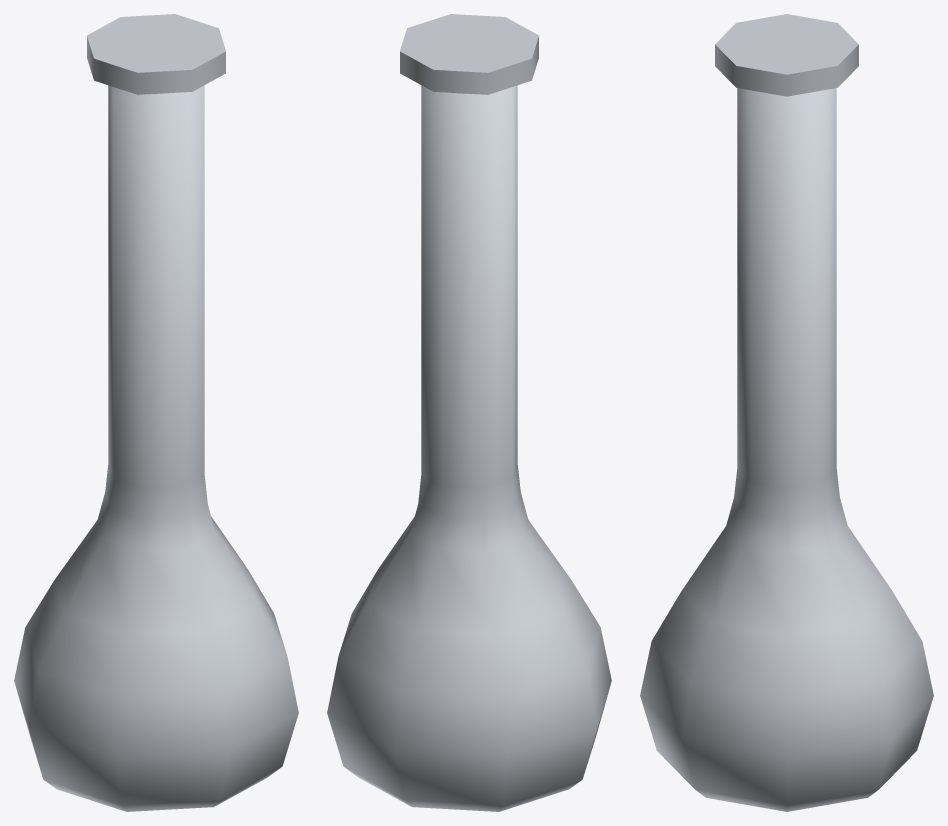
Rendered from bottle_glassware_volumetric_flask_large.glb.
3 renders of one model, left to right at view 1: azimuth 30°, elevation 25°; view 2: azimuth 150°, elevation 25°; view 3: azimuth 270°, elevation 25°, orthographic.
Parts seen in each view (by area): view 1: bottle_glassware_volumetric_flask_large, bottle_glassware_volumetric_flask_large_cap; view 2: bottle_glassware_volumetric_flask_large, bottle_glassware_volumetric_flask_large_cap; view 3: bottle_glassware_volumetric_flask_large, bottle_glassware_volumetric_flask_large_cap.
Part boxes in pixels (left/top/right/bottom): bottle_glassware_volumetric_flask_large: left=14, top=85, right=298, bottom=811; bottle_glassware_volumetric_flask_large_cap: left=87, top=14, right=225, bottom=94; bottle_glassware_volumetric_flask_large: left=327, top=85, right=611, bottom=811; bottle_glassware_volumetric_flask_large_cap: left=400, top=14, right=538, bottom=94; bottle_glassware_volumetric_flask_large: left=640, top=88, right=933, bottom=811; bottle_glassware_volumetric_flask_large_cap: left=715, top=14, right=858, bottom=96.
Bounding box in the file's own units: 0.2459 × 0.67 × 0.2459.
1 material, 1 textured.
